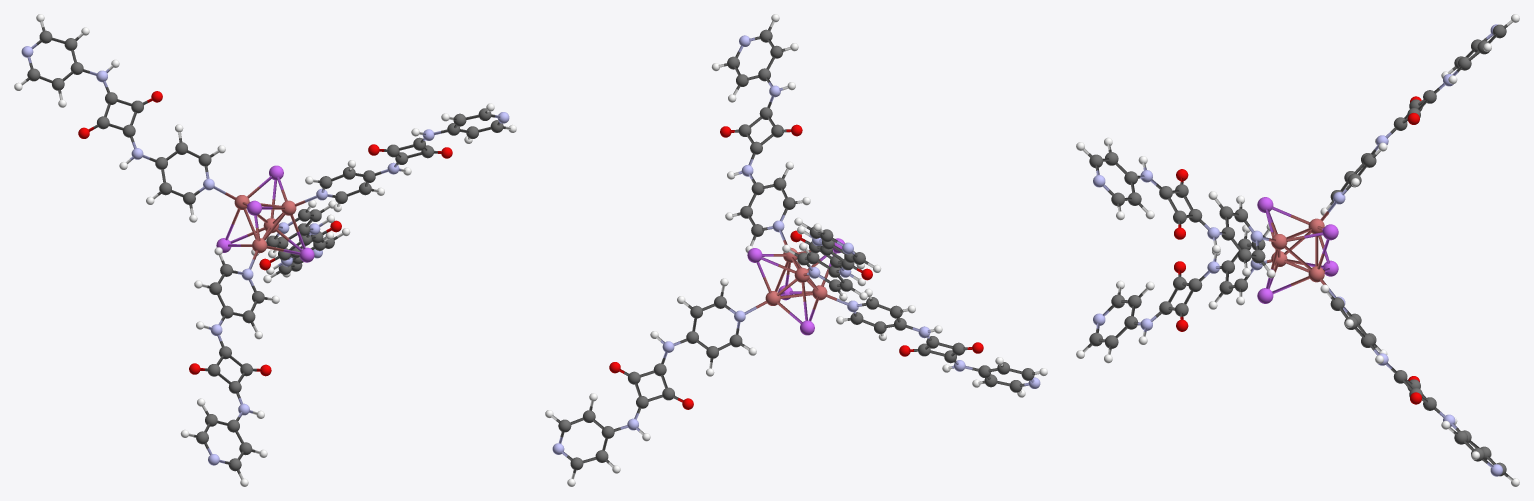
The model's file is 05_Cu4I4_SQ-Apy2_4.gltf.
The picture shows the model from 3 angles, left to right: view 1: azimuth 30°, elevation 25°; view 2: azimuth 150°, elevation 25°; view 3: azimuth 270°, elevation 25°; orthographic projection. The views are drawn at different scales.
Parts seen in each view (by area): view 1: Cu4I2Apy4.001; view 2: Cu4I2Apy4.001; view 3: Cu4I2Apy4.001.
Boxes of the visible parts, x1,y1,x2,y2 form: Cu4I2Apy4.001: (14,14,516,486); Cu4I2Apy4.001: (545,14,1047,486); Cu4I2Apy4.001: (1076,14,1519,486).
Bounding box in the file's own units: 2.04 × 1.88 × 2.2.
